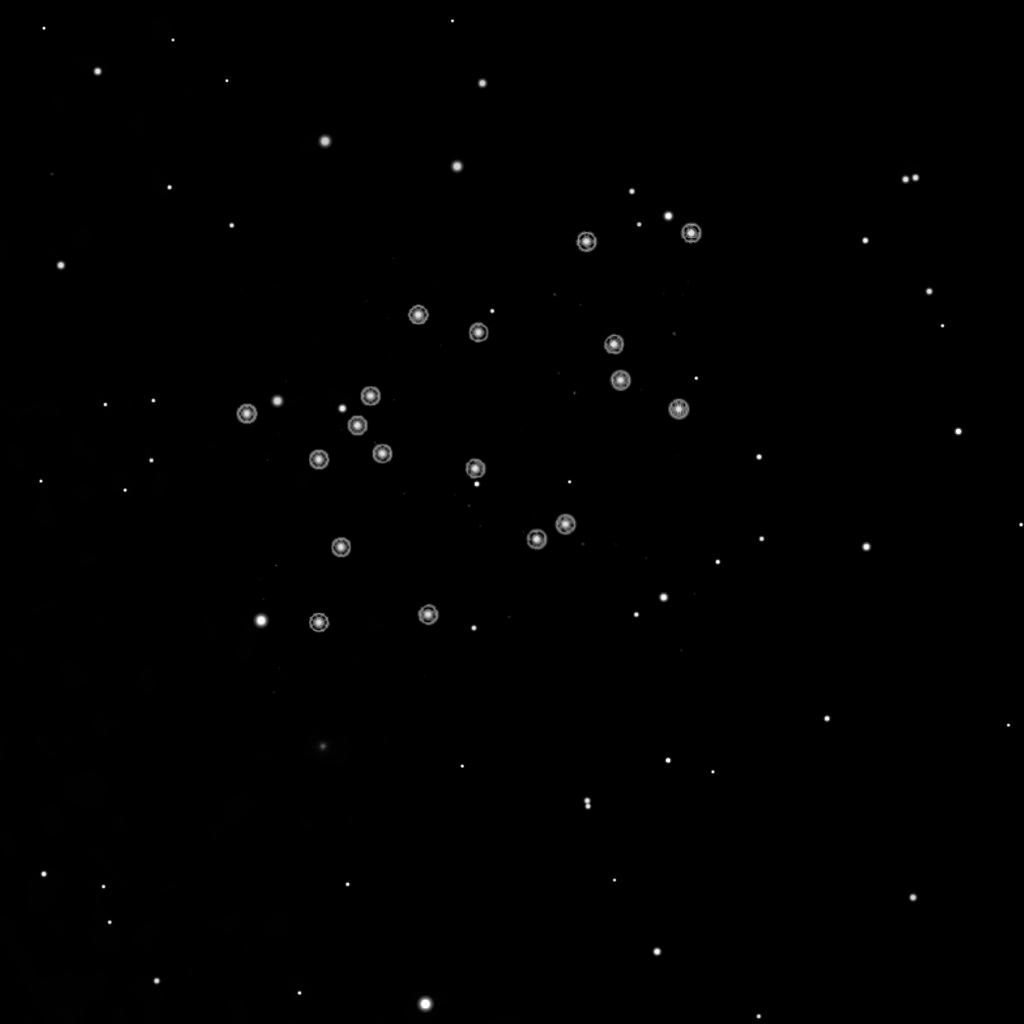canis_major: (303, 299, 497, 478)
